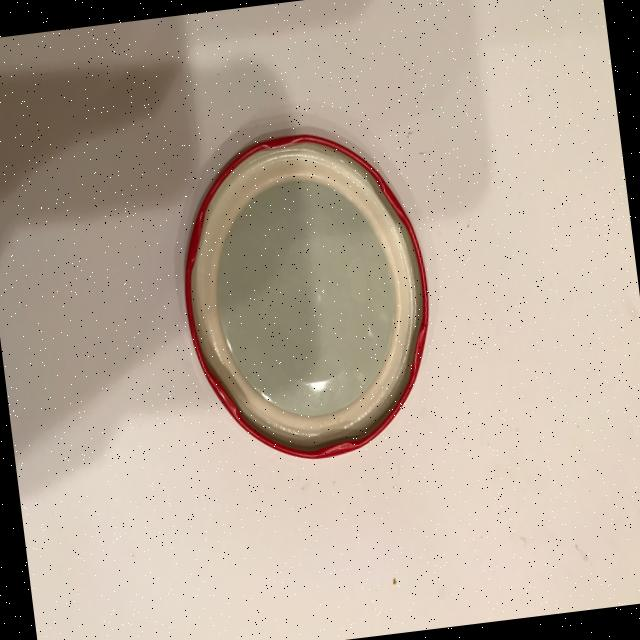metal: (165, 116, 448, 472)
